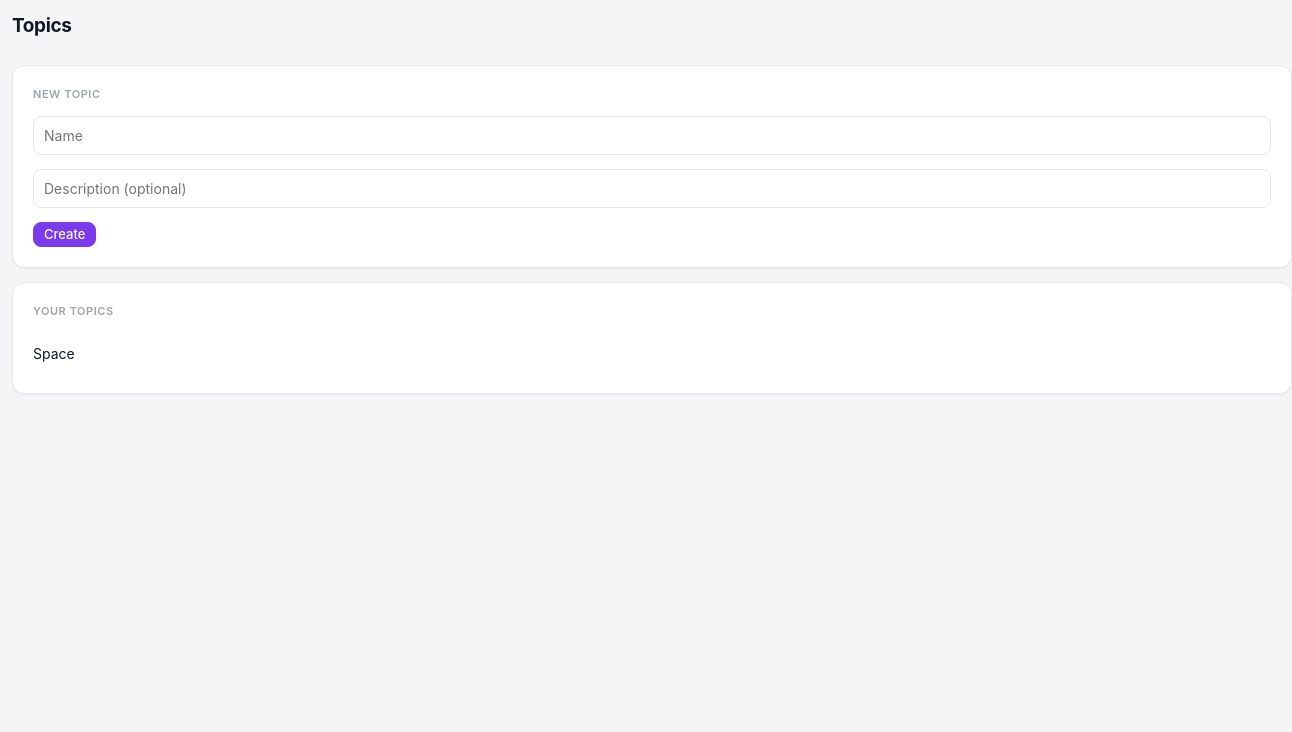
Test: Topics › lists topics and opens a detail with counts
Step 1. Click the button "Space" → point(54, 353), box [33,334,1271,372]
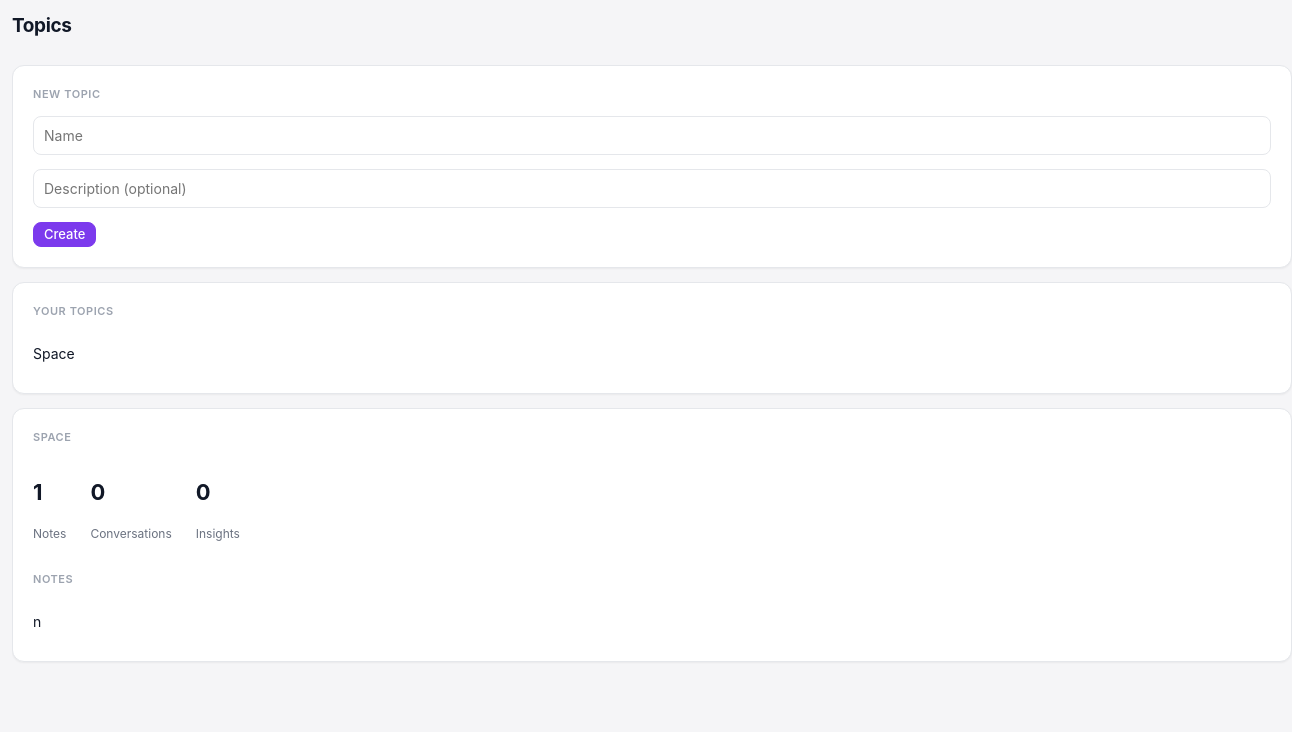
Expected: the element with test id "topic-detail" is shown, [12,408,1291,662]
Expected: the text "1" is shown, [33,479,42,505]
Expected: the button "n" is shown, [33,612,41,630]
